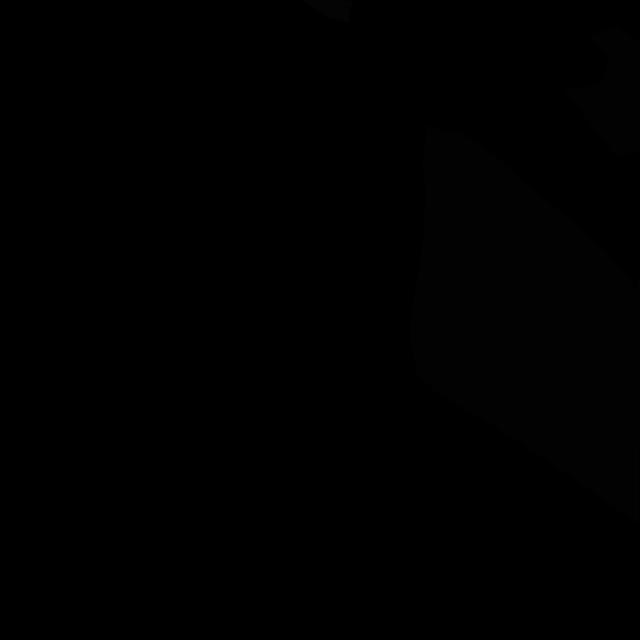cardboard: (410, 124, 640, 525), (564, 22, 640, 158)
soft_plastic: (300, 0, 353, 23)
